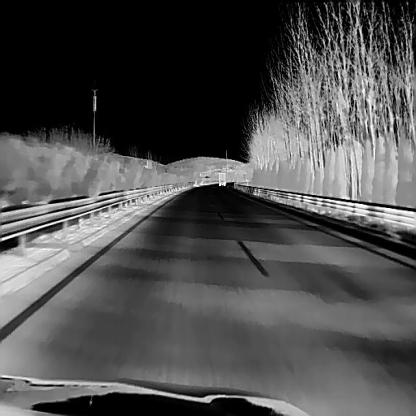truck: (218, 171, 226, 185)
